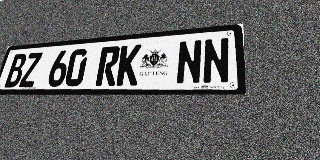0: (64, 48, 89, 86)
6: (46, 50, 71, 87)
B: (4, 53, 28, 87)
K: (116, 44, 142, 86)
N: (202, 37, 230, 84), (175, 39, 202, 85)
R: (95, 46, 121, 86)
Z: (19, 52, 43, 87)
